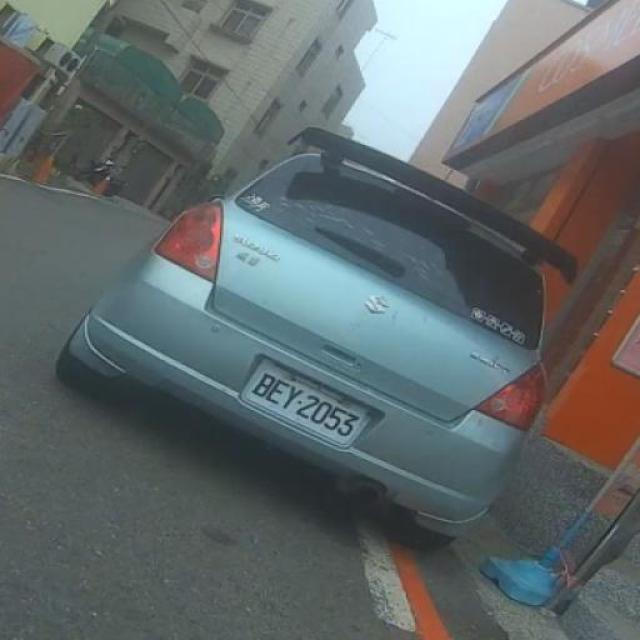illegalparking: (59, 53, 596, 586)
